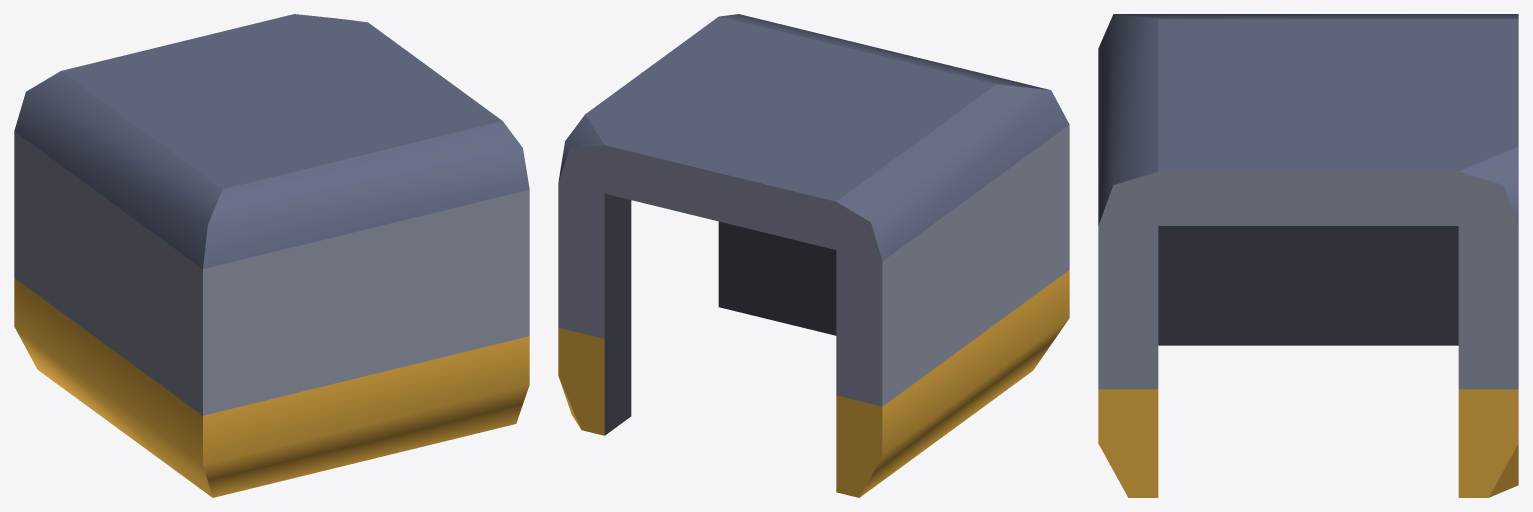
Rendered from CoverStripeCorner-transformed.glb.
3 renders of one model, left to right at view 1: azimuth 30°, elevation 25°; view 2: azimuth 150°, elevation 25°; view 3: azimuth 270°, elevation 25°, orthographic. The views are drawn at different scales.
Parts seen in each view (by area): view 1: cover-stripe-corner; view 2: cover-stripe-corner; view 3: cover-stripe-corner.
Part boxes in pixels (x1,y1,x2,y2): cover-stripe-corner: (14, 14, 529, 497); cover-stripe-corner: (558, 14, 1069, 497); cover-stripe-corner: (1098, 14, 1518, 497).
Size of the model in its own units: 1.4 by 1.2 by 1.4.
